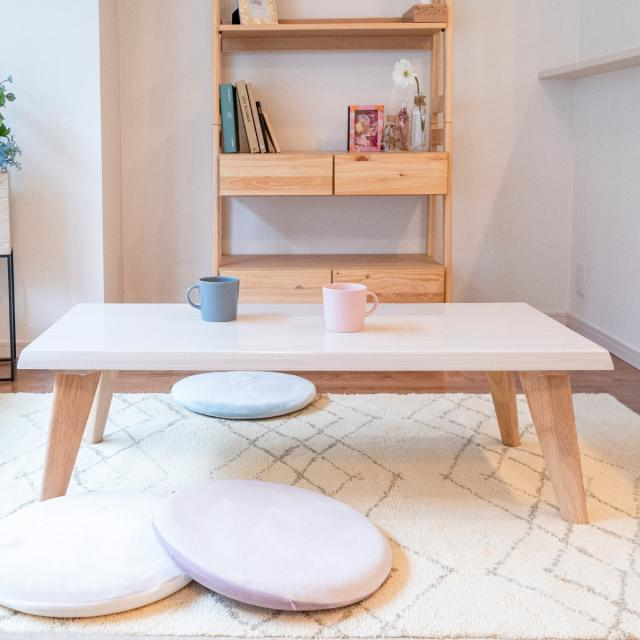natural desk: (15, 302, 615, 523)
natural shelf: (208, 1, 454, 296)
